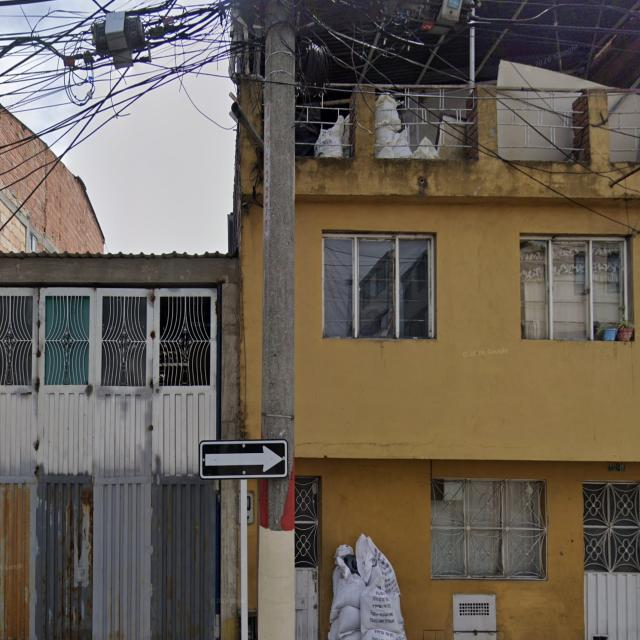Fachada: (289, 89, 640, 640), (0, 253, 238, 640)
Poste: (258, 0, 295, 640)
